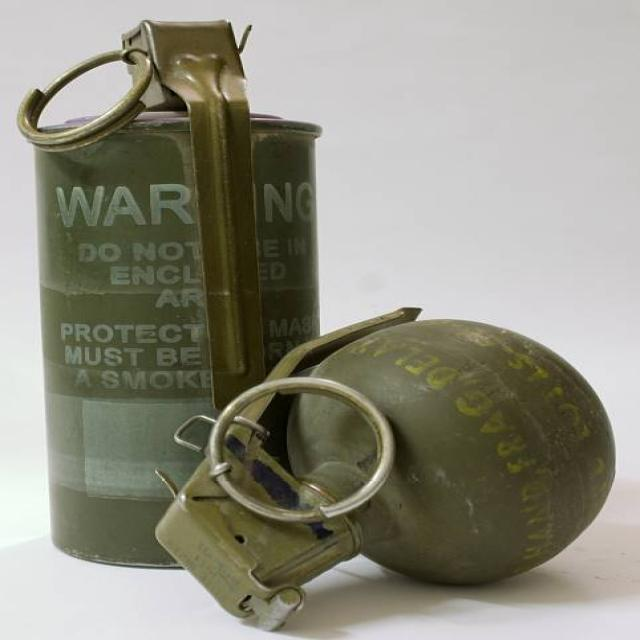grenade: (146, 303, 626, 640)
